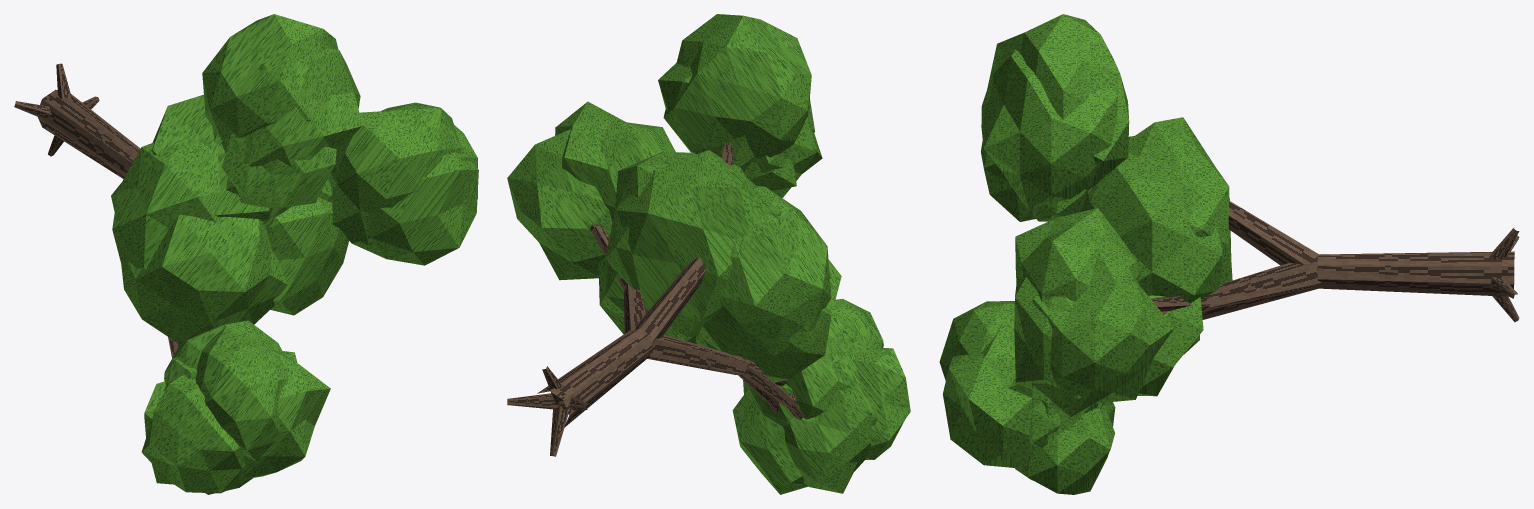
Rendered from maple_tree_tall.glb.
The picture shows the model from 3 angles, left to right: view 1: azimuth 30°, elevation 25°; view 2: azimuth 150°, elevation 25°; view 3: azimuth 270°, elevation 25°; orthographic projection. The views are drawn at different scales.
Parts seen in each view (by area): view 1: leaves, bark; view 2: leaves, bark; view 3: leaves, bark.
Part boxes in pixels (bbox=[...]): leaves: bbox=[111, 14, 478, 494]; bark: bbox=[14, 63, 179, 358]; leaves: bbox=[507, 14, 910, 494]; bark: bbox=[507, 142, 803, 456]; leaves: bbox=[939, 14, 1232, 494]; bark: bbox=[1128, 138, 1519, 322].
Bounding box in the file's own units: 9.88 × 11.96 × 12.48.
Materials: 2 (2 with a texture image).
